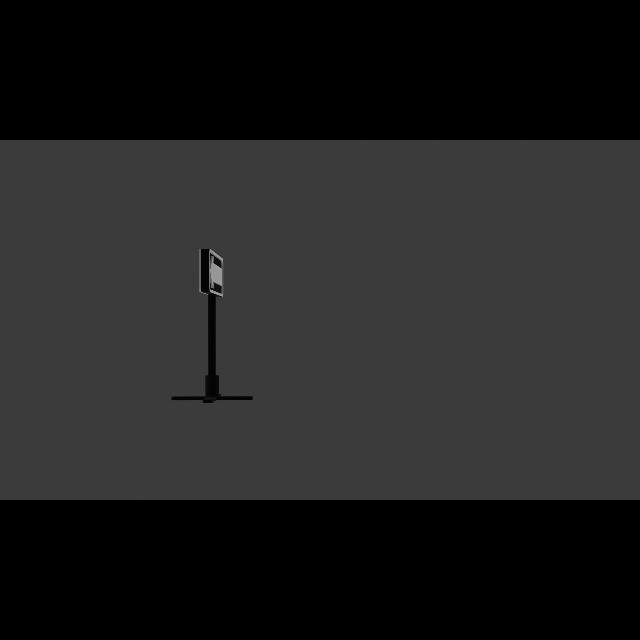sign_oneway_left: (200, 249, 225, 298)
